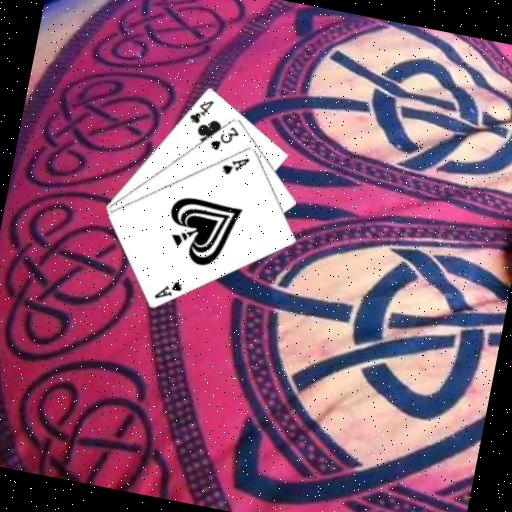3S: (207, 119, 242, 156)
4C: (186, 94, 216, 128)
AS: (151, 274, 186, 305), (218, 150, 252, 180)
